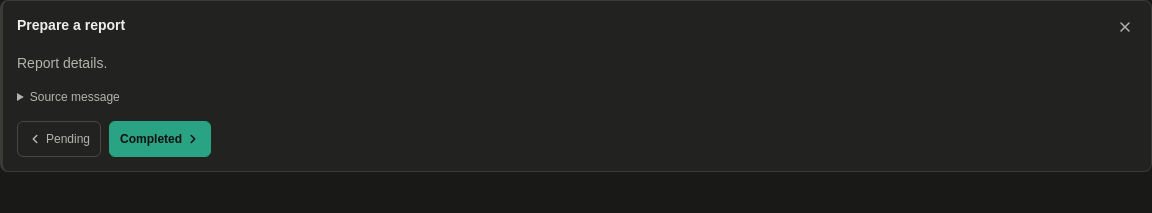
Scenario: uses the displayed status, provides named arrow controls, and discloses source text
This screenshot has width=1152, height=213.
Check: the heading "Prepare a report" is shown, box left=17, top=17, right=125, bottom=33
Click the button "Pending" at coordinates (59, 139), box left=17, top=121, right=101, bottom=157
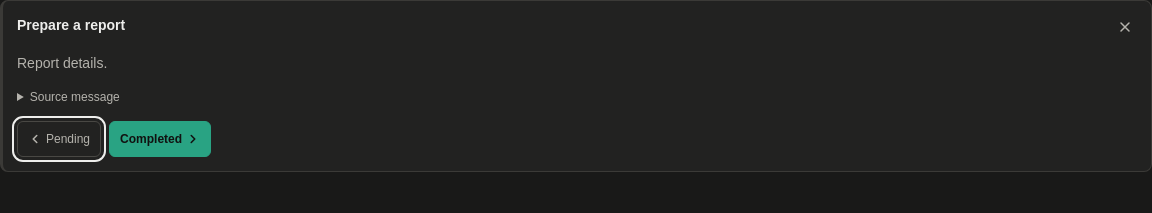
Click the button "Completed" at coordinates (160, 139), box left=109, top=121, right=211, bottom=157
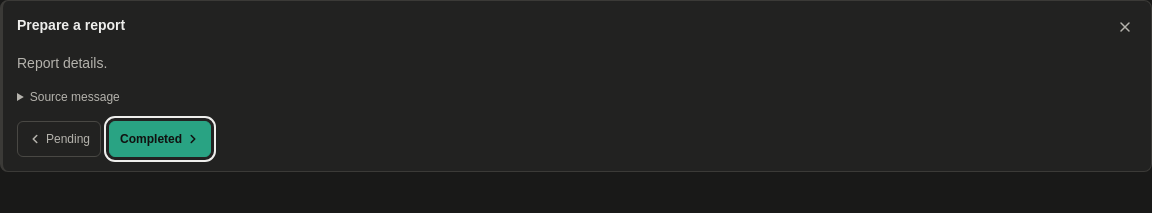
Click the heading "Source message" at coordinates (75, 97), box left=30, top=90, right=120, bottom=104
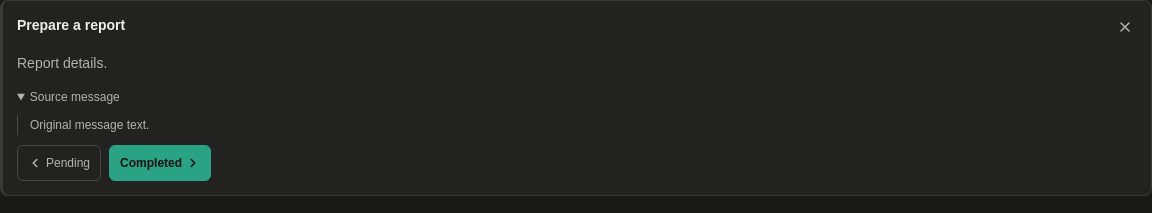
Check: the text "Original message text." is shown, box left=17, top=115, right=1137, bottom=135
